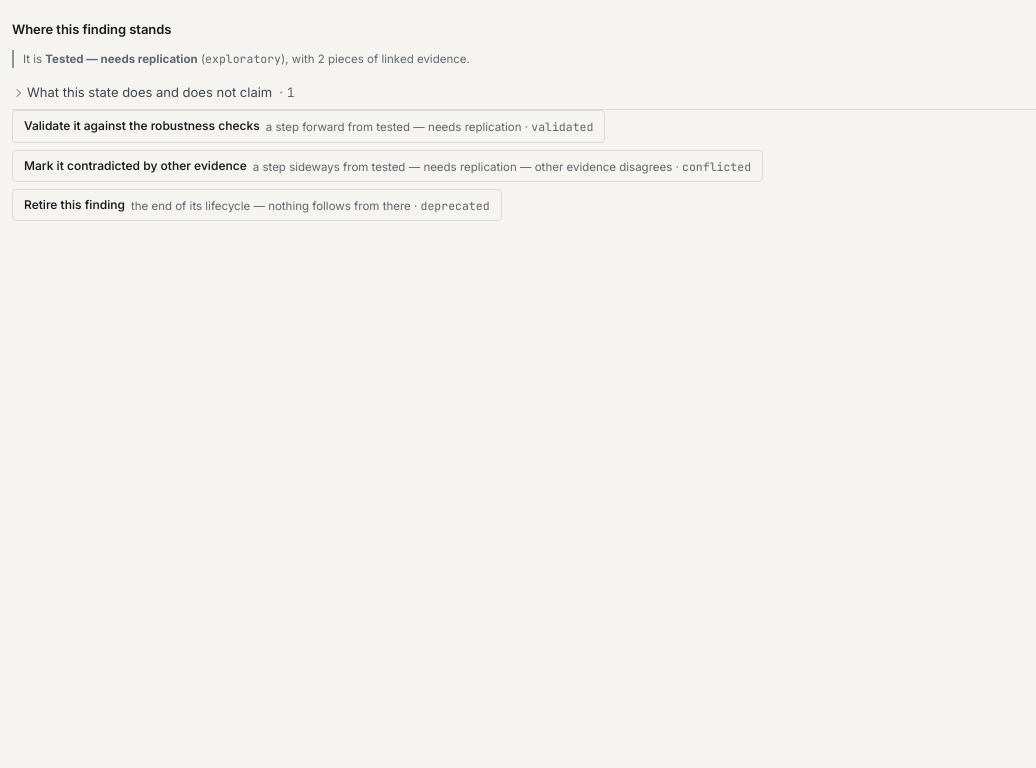
it: the finding standing panel › passes the recorded checks down to the promotion form
The width and height of the screenshot is (1036, 768).
Click the button named "validated". click: (309, 126)
box: [12,110,605,143]
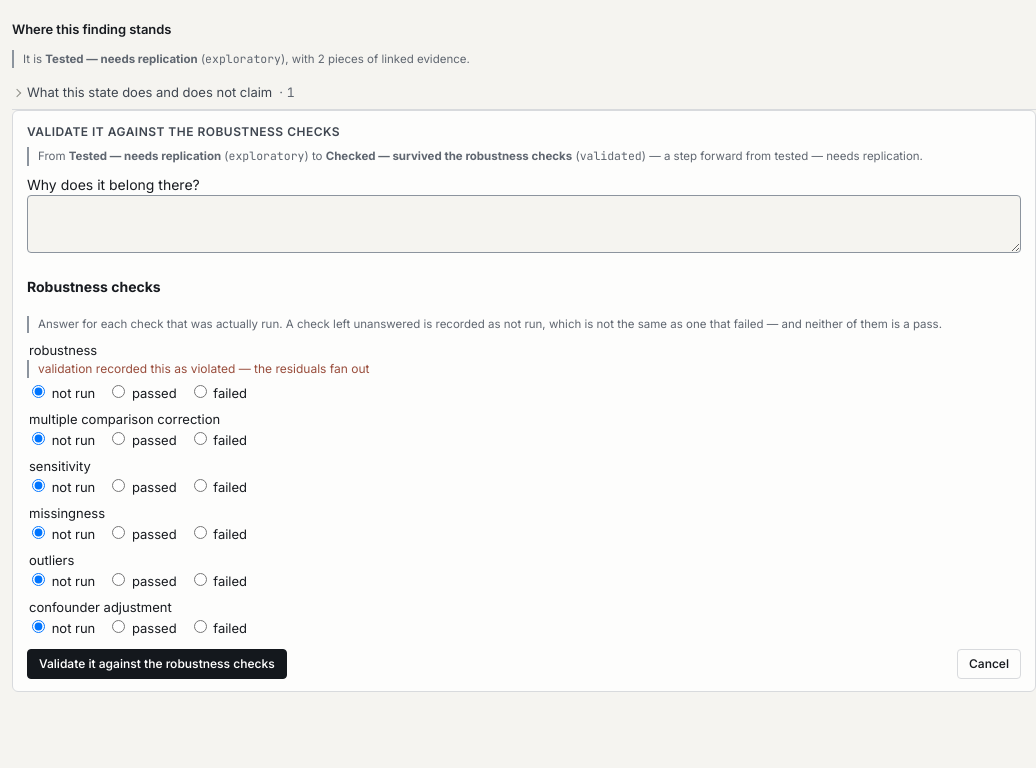
Expected: the text "validation recorded this as violated — the residuals fan out" is shown, [27,360,1021,378]
